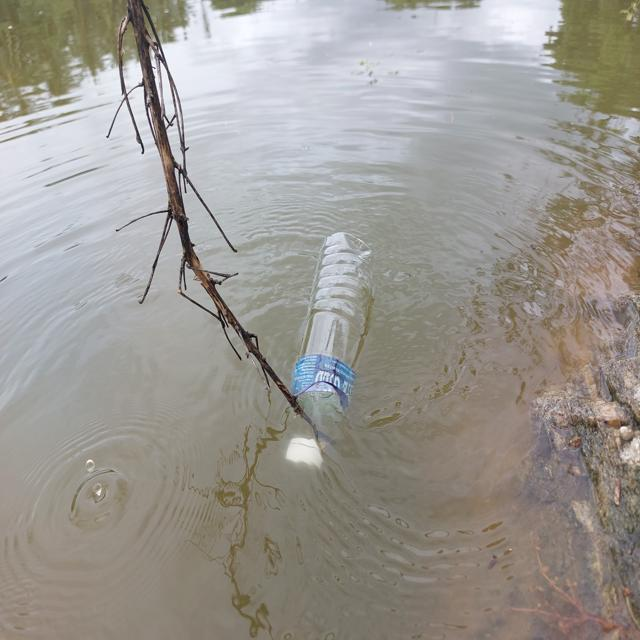waterbottle: (275, 224, 387, 489)
